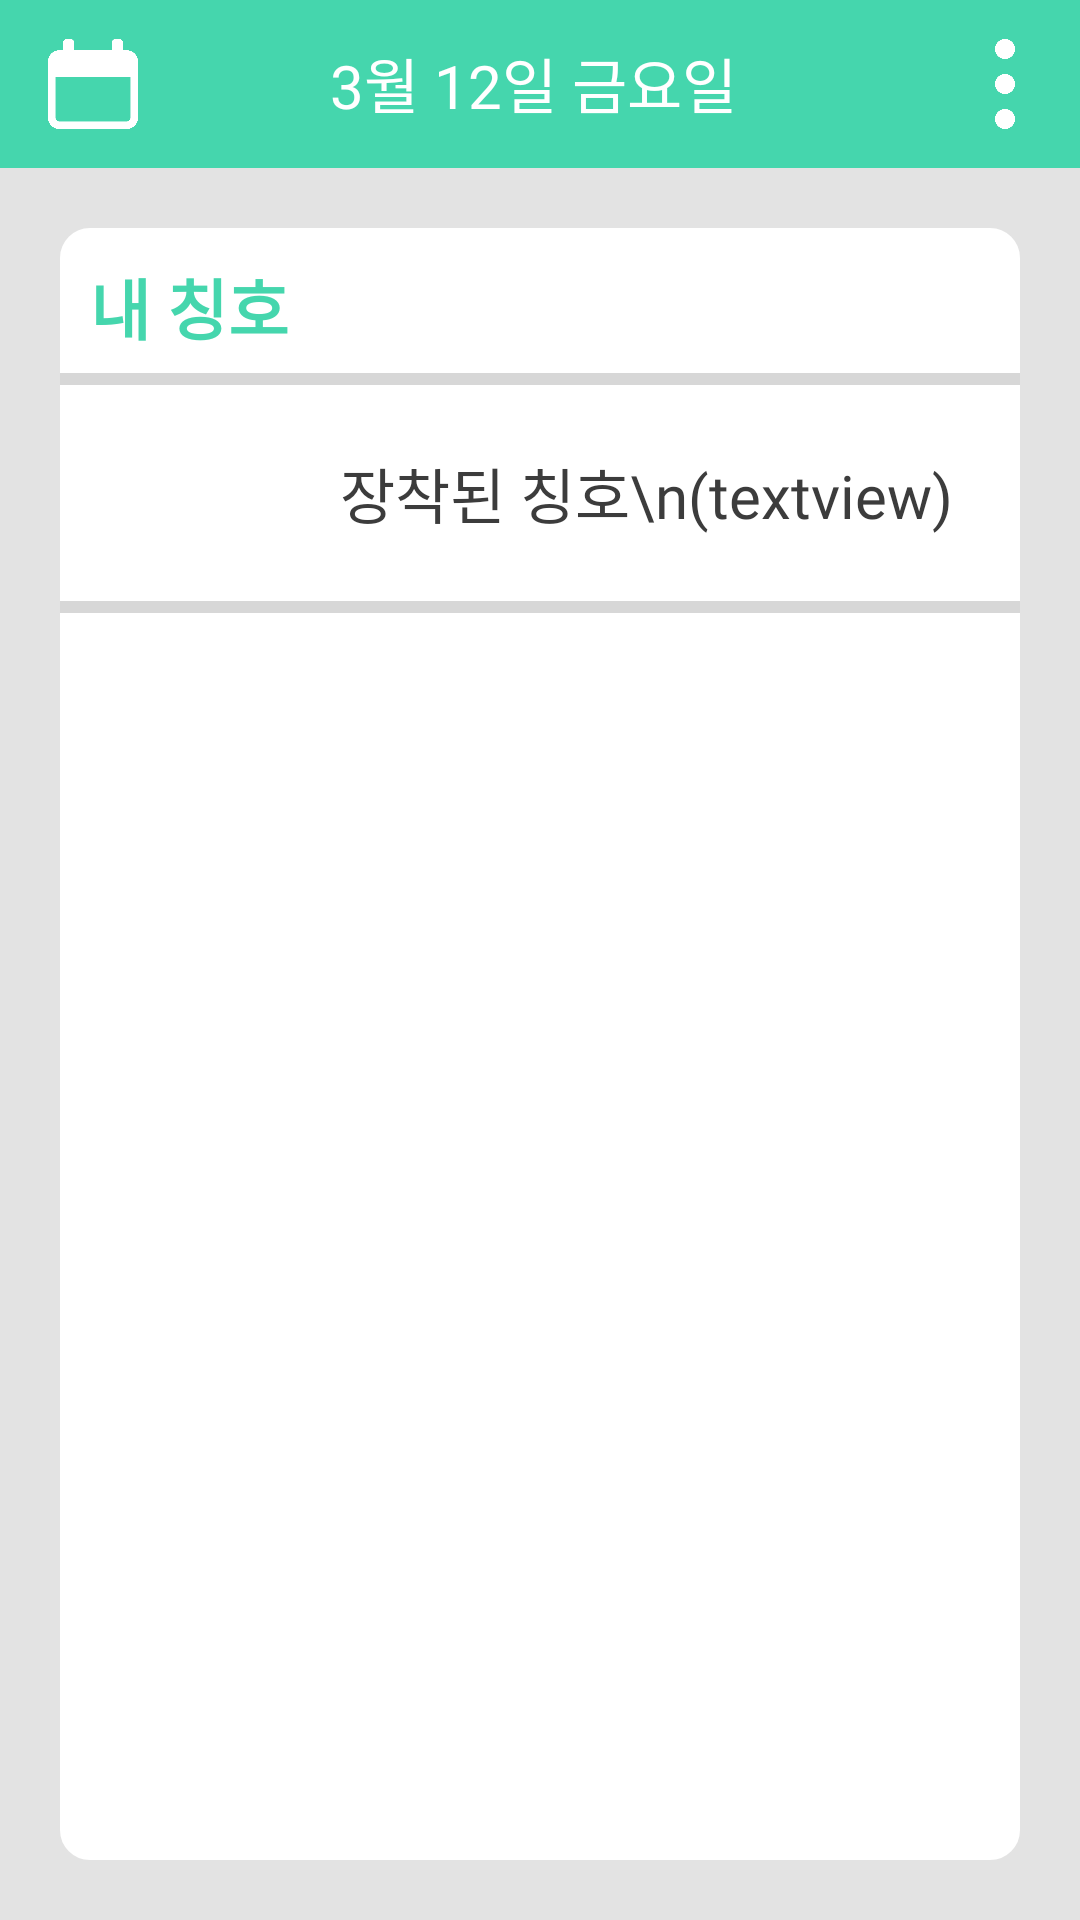

Where to tap for icons on this 1080 × 1920 app screen, as [x,y]:
calendar: [93,84]
more: [1005,84]
